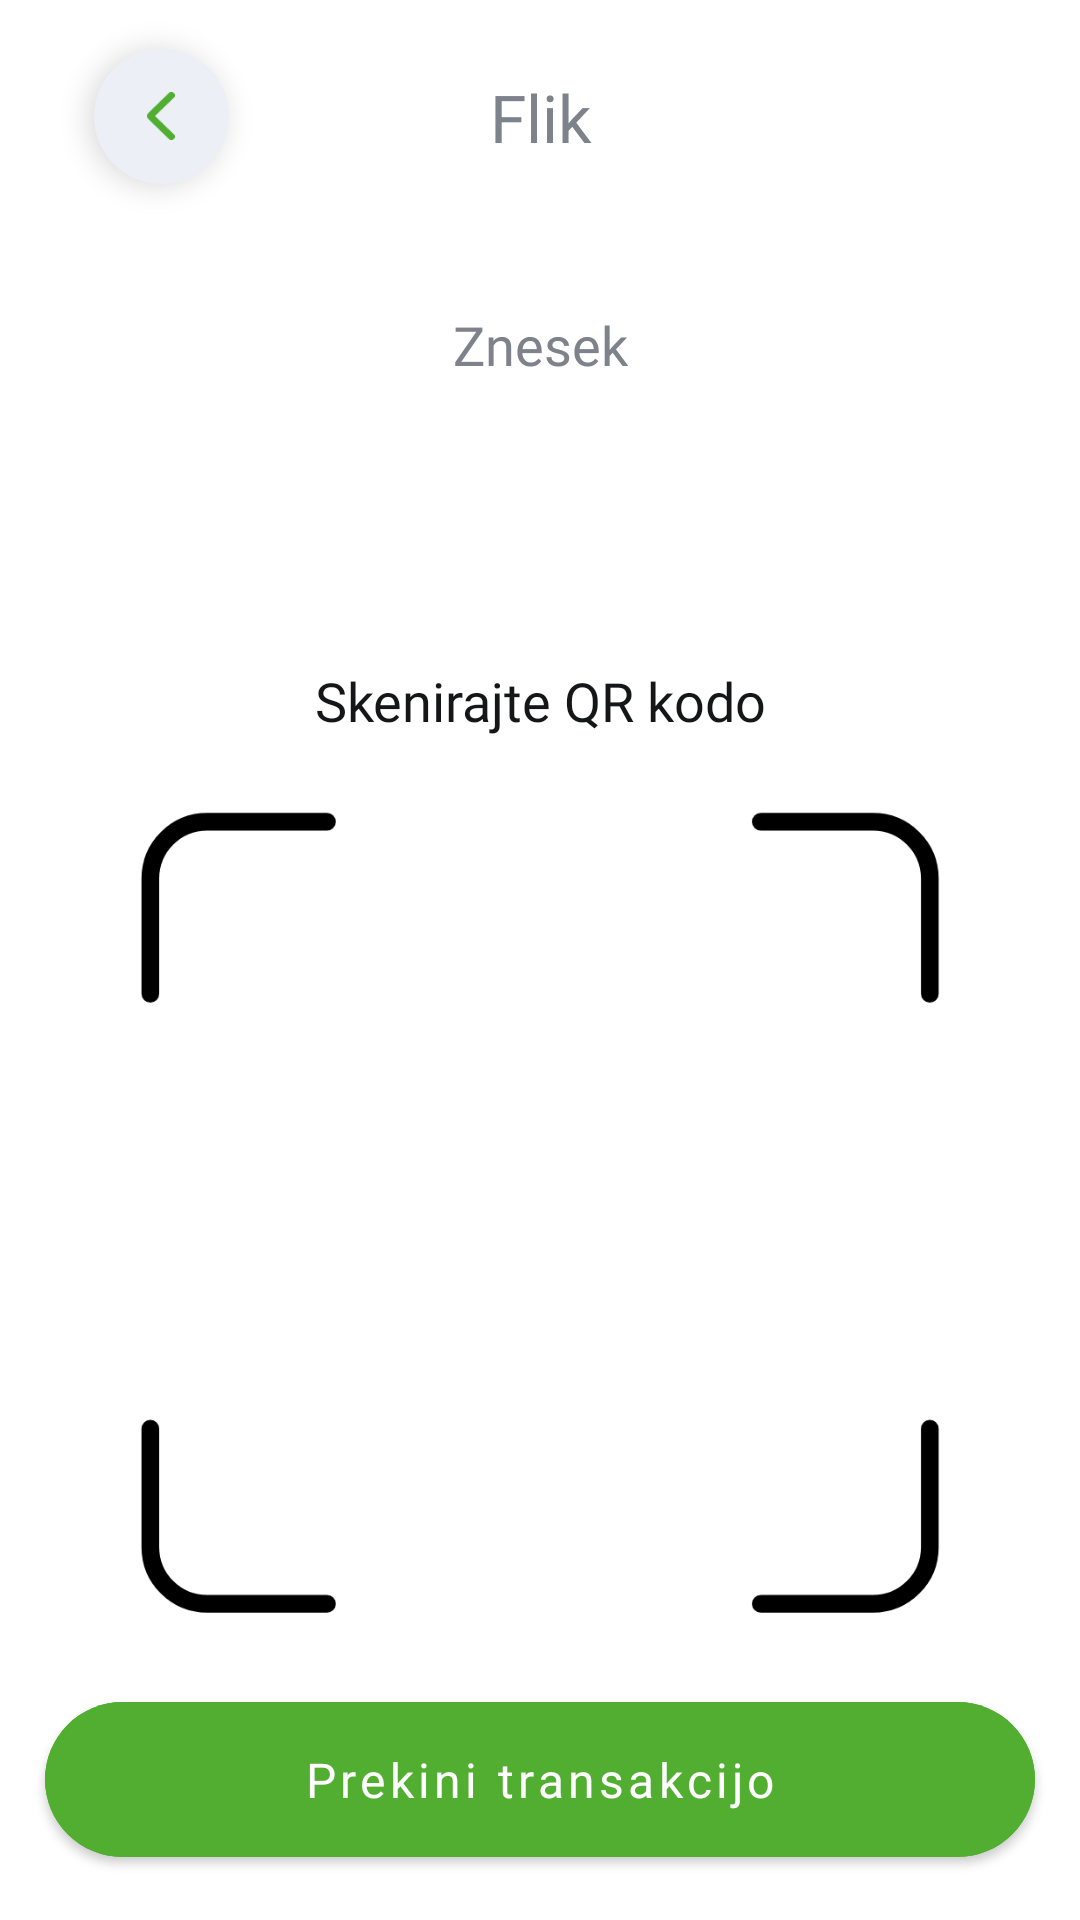

Icon bounding boxes for this 1080 x 1920 phone screenshot, format [left=x1, top=y1, right=x2, bottom=y2]:
back: [left=90, top=45, right=231, bottom=188]
